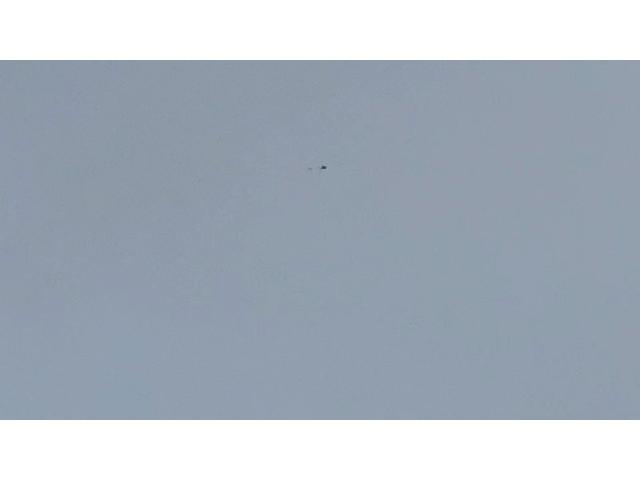Anti-Drone: (306, 160, 330, 173)
